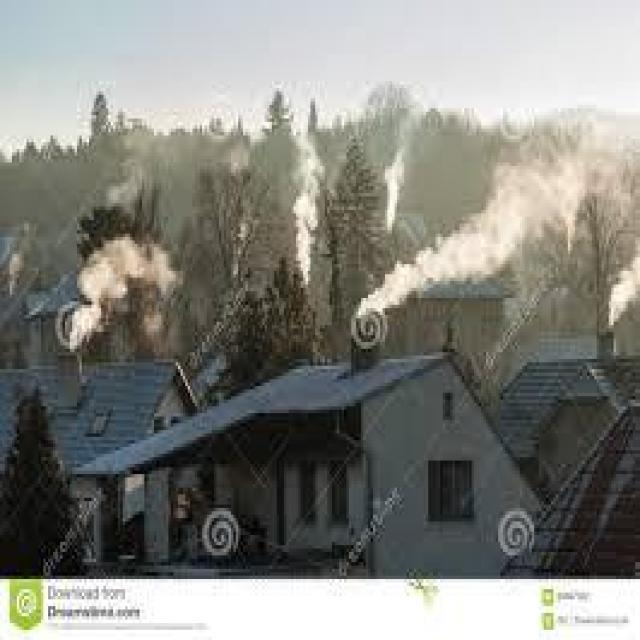Smoke: (50, 220, 186, 362), (486, 130, 638, 236), (374, 226, 509, 308), (292, 116, 329, 300), (376, 109, 424, 239), (607, 245, 640, 338), (109, 165, 147, 208), (8, 248, 30, 308)
